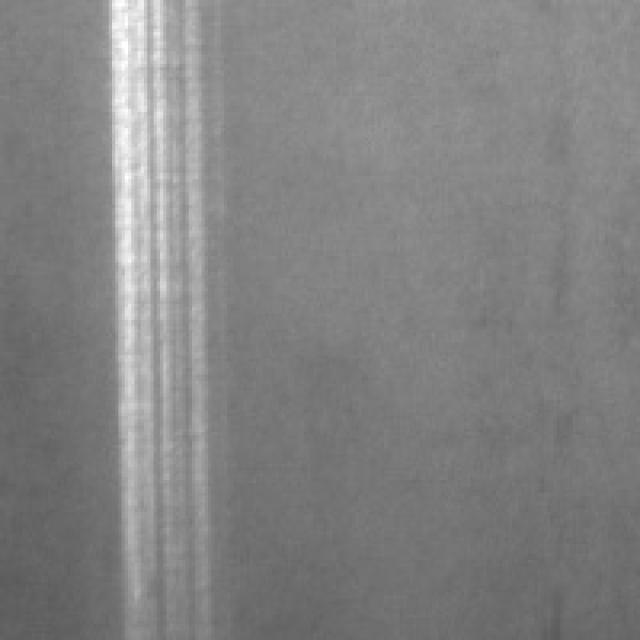scratches: (106, 0, 225, 630)
